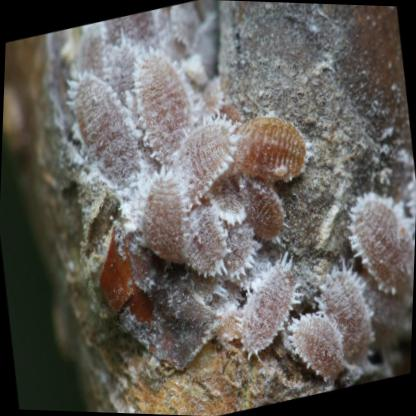mealy bug: (72, 74, 140, 195), (136, 52, 192, 165), (348, 199, 414, 291), (241, 258, 297, 356), (238, 116, 312, 183), (186, 121, 233, 203), (291, 313, 345, 381), (141, 171, 184, 254)
